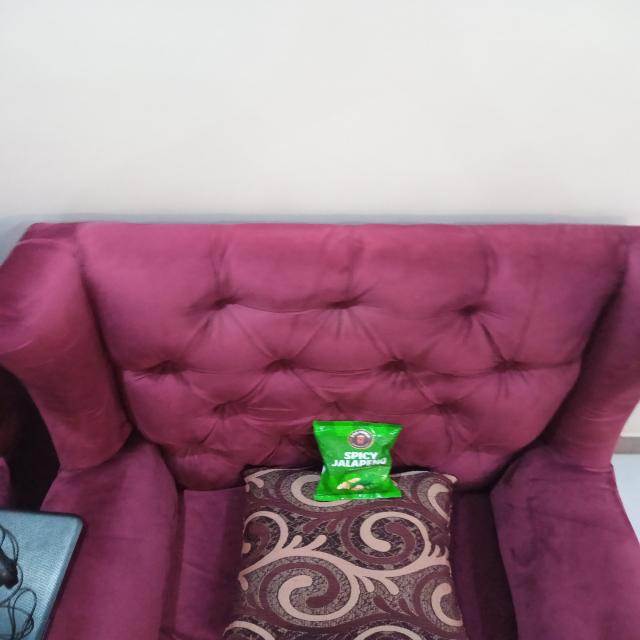Plastic: (308, 414, 410, 508)
